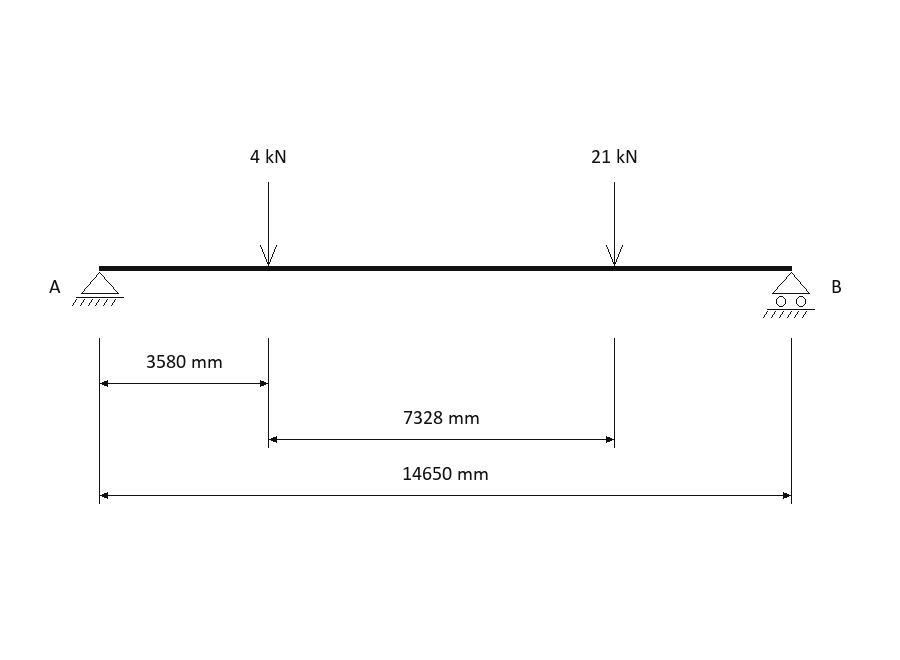pin_support: (72, 272, 124, 306)
point_load: (260, 182, 277, 266), (606, 182, 623, 266)
roller_support: (763, 272, 815, 318)
